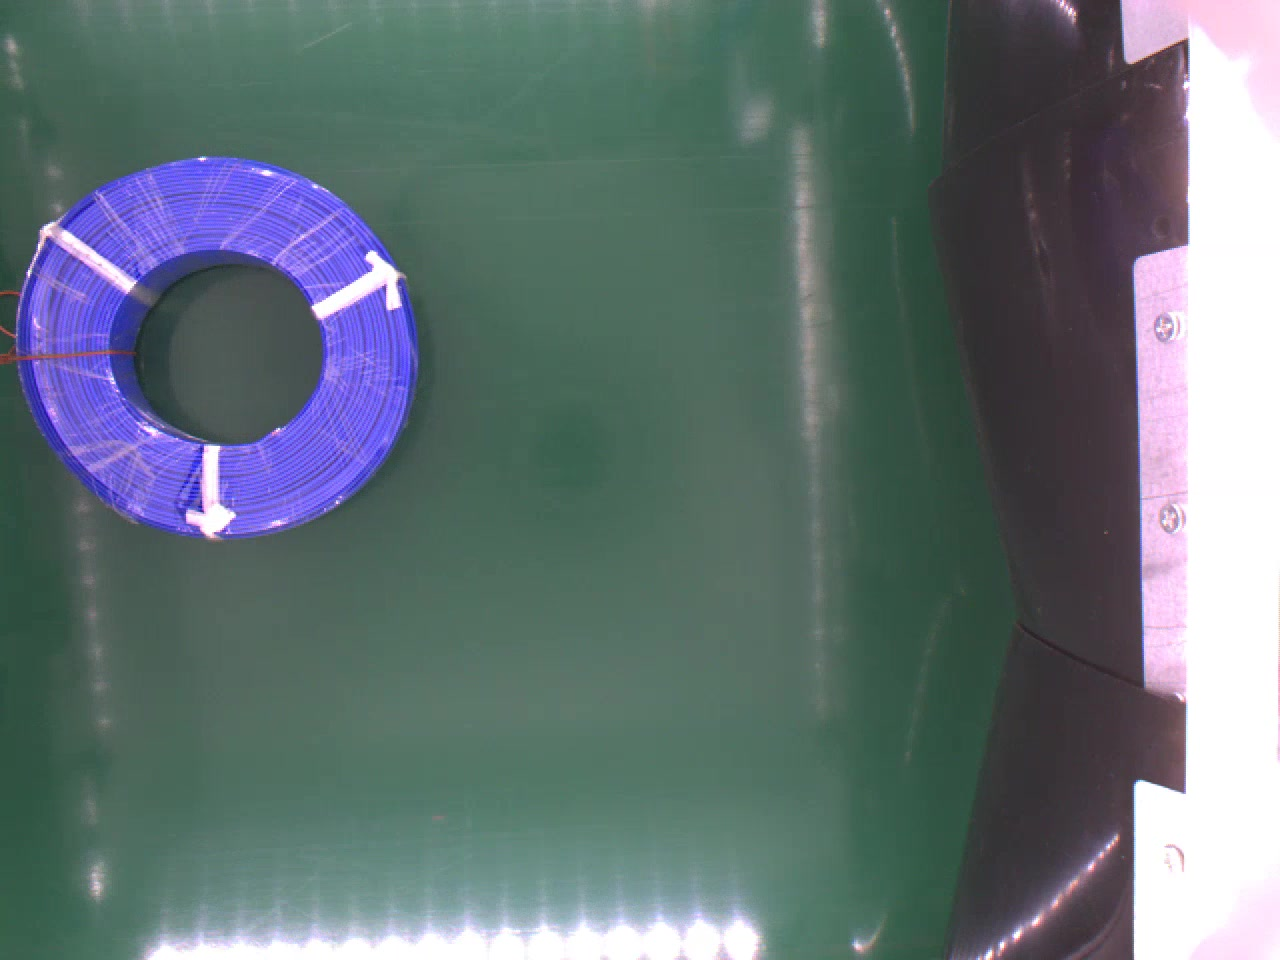blue: (19, 151, 415, 532)
